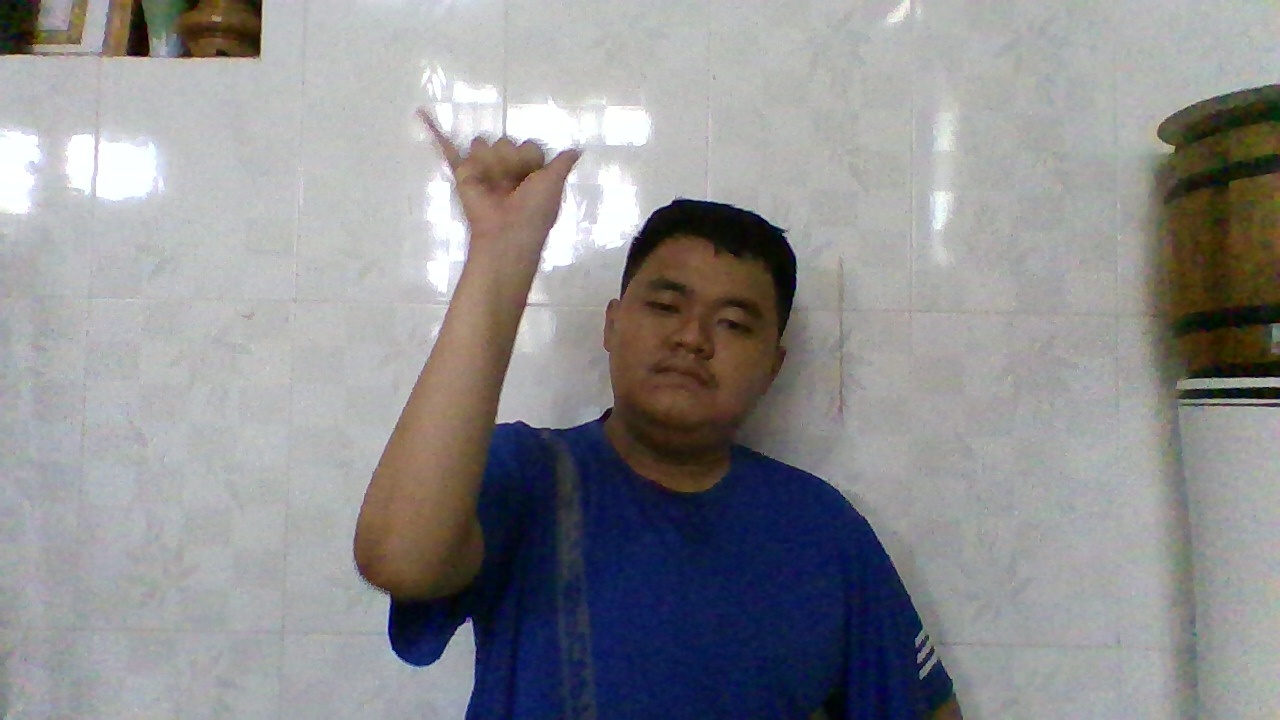Y: (404, 97, 596, 250)
